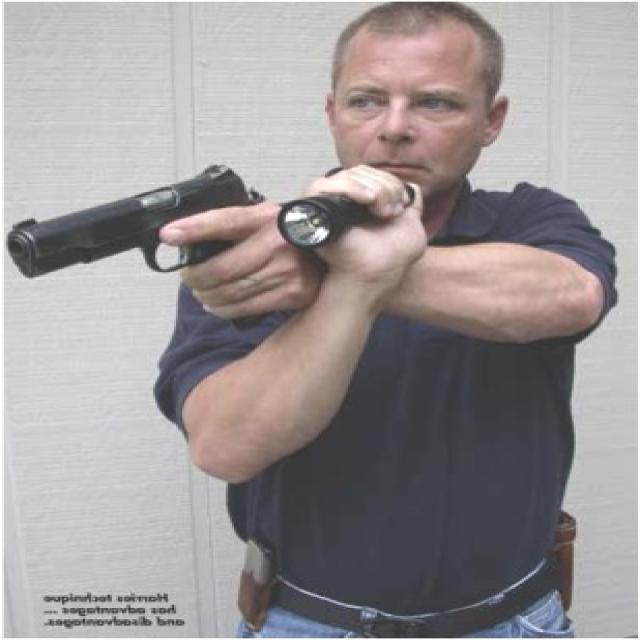pistol: (12, 162, 296, 336)
